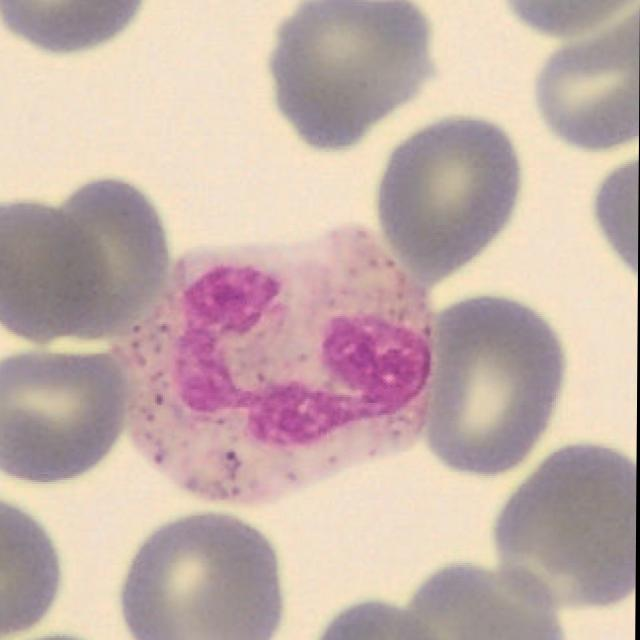Neutrofilo segmentado: (113, 225, 440, 508)
